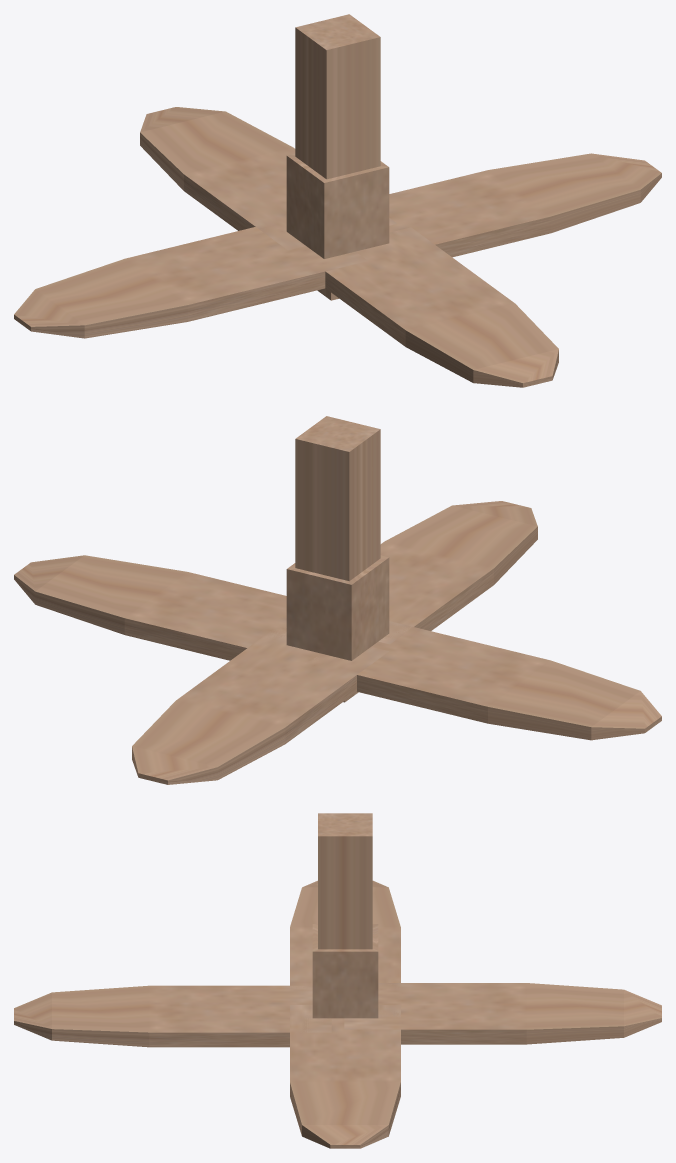
File: fan.fbx
The picture shows the model from 3 angles, top to bottom: view 1: azimuth 30°, elevation 25°; view 2: azimuth 150°, elevation 25°; view 3: azimuth 270°, elevation 25°; orthographic projection. The views are drawn at different scales.
Visible parts, largest first — view 1: Cube; view 2: Cube; view 3: Cube.
Part boxes in pixels (x1,y1,x2,y2): Cube: (14, 14, 661, 387); Cube: (14, 416, 661, 784); Cube: (14, 813, 661, 1148).
Bounding box in the file's own units: 730 × 285 × 742.
